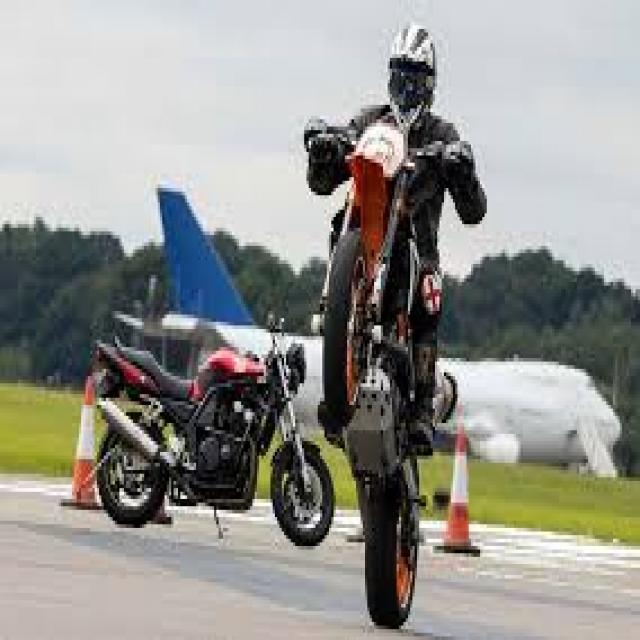Wheeling: (307, 34, 540, 640)
